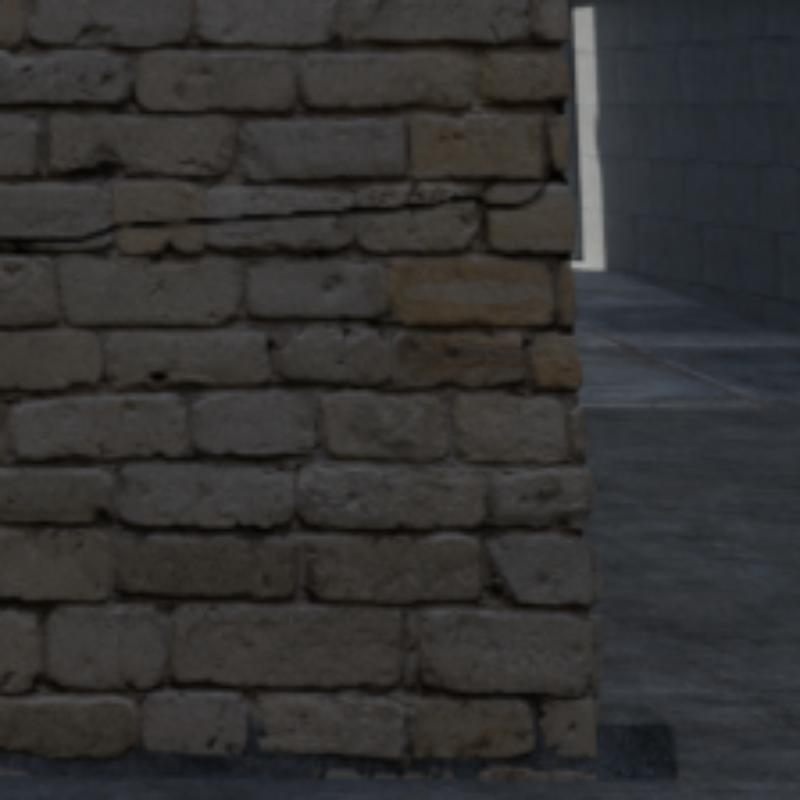pothole: (0, 121, 550, 246)
